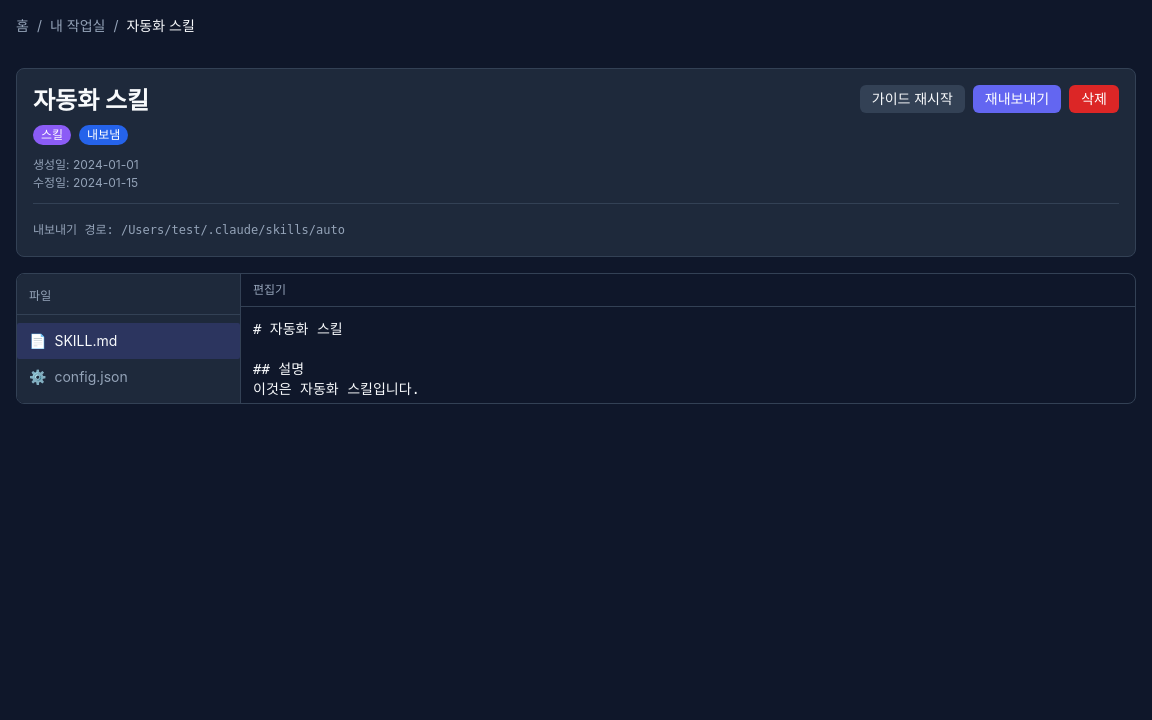
WorkDetail › 삭제 버튼 클릭 시 삭제 확인 모달이 나타난다
Click the button "삭제" at {"x": 1094, "y": 99}, box [1069,85,1119,113]
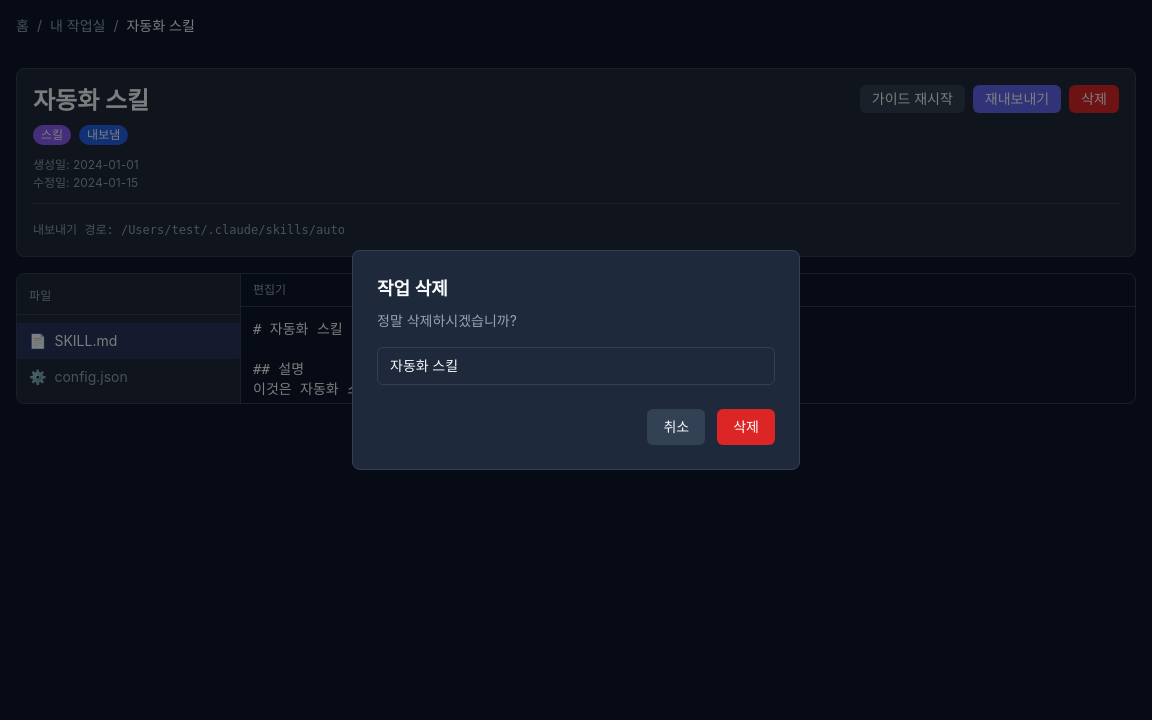
expect the dialog named "삭제 확인" is shown: met, box [352,250,800,470]
expect the text "정말 삭제하시겠습니까?" is shown: met, box [377,312,517,329]
